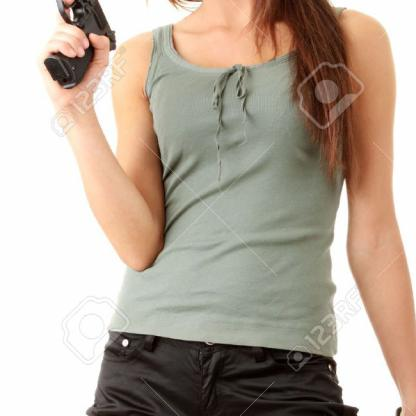gun: (31, 0, 120, 94)
